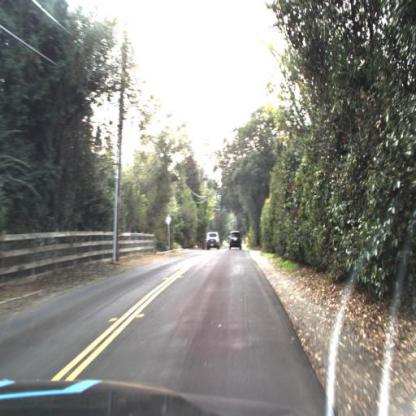car: (200, 223, 224, 255), (228, 229, 244, 252)
